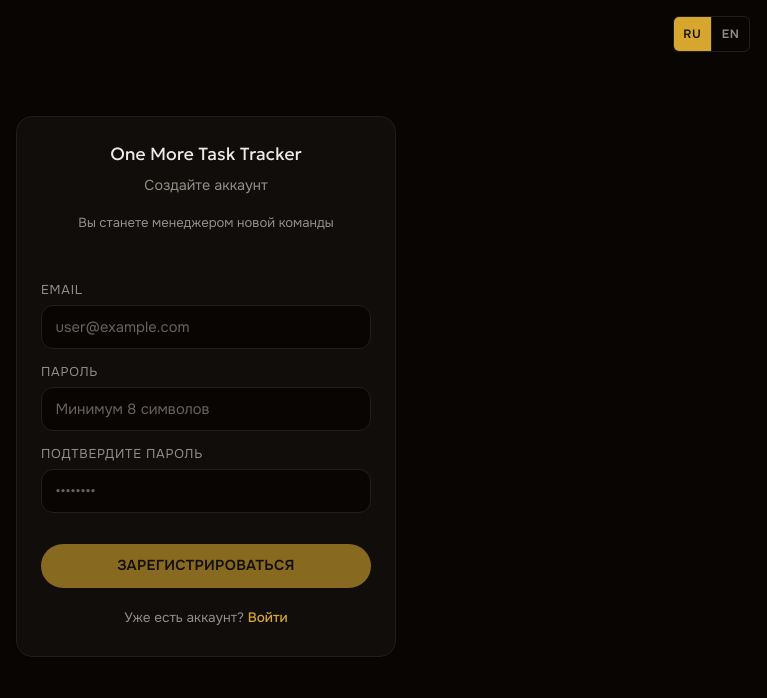
it: RegisterPage › shows password too short error when password is less than 8 chars
Step 1. Type "short12" into the password field labelled "Пароль" → (206, 409), box [41,387,371,431]
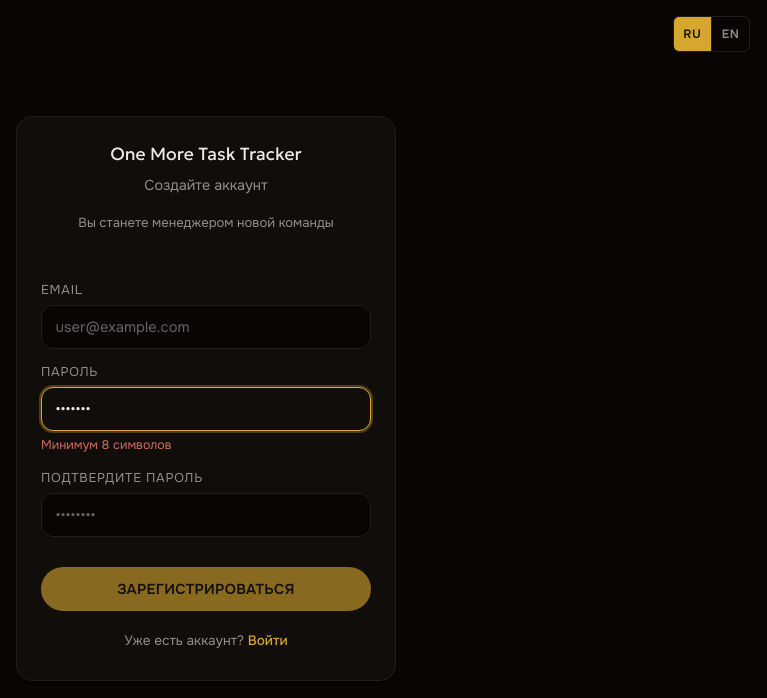
Expected: the text "Минимум 8 символов" is shown, [41,437,172,453]
